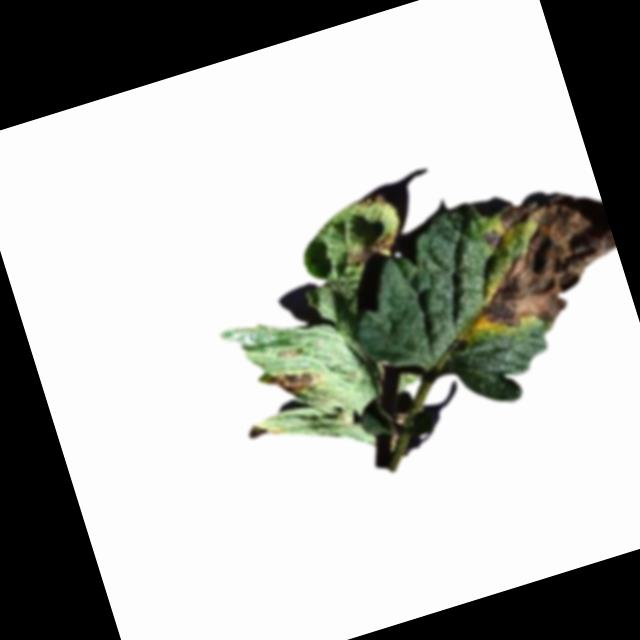Early_blight: (440, 181, 631, 349), (266, 359, 323, 398), (344, 230, 399, 267), (273, 340, 303, 363), (356, 192, 387, 213)
